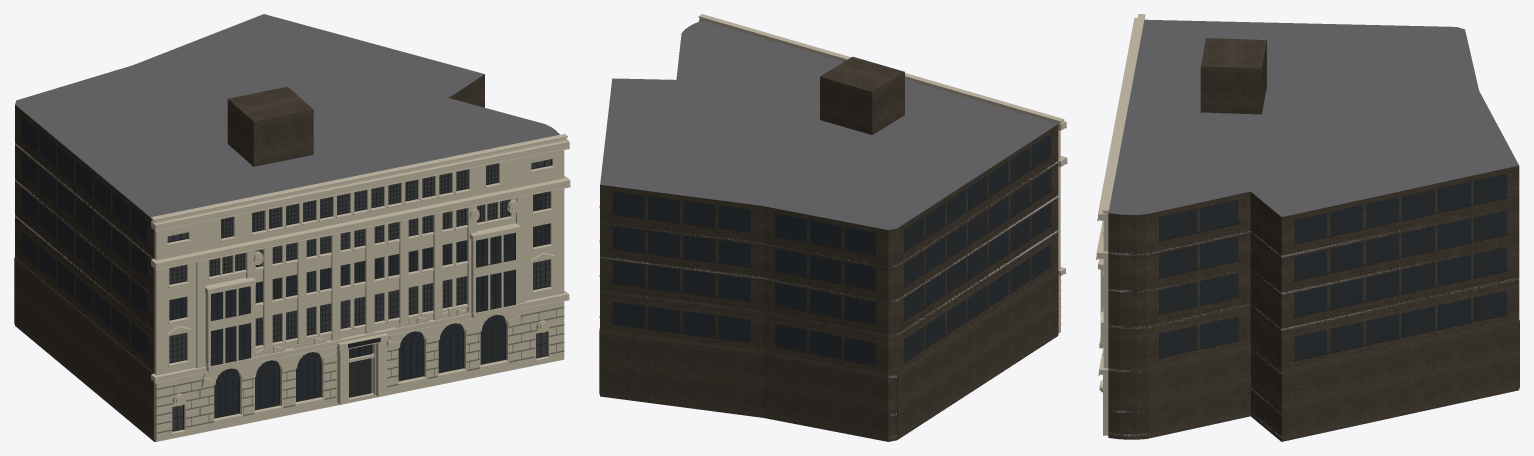
File: hero4c_mobile.glb
3 renders of one model, left to right at view 1: azimuth 30°, elevation 25°; view 2: azimuth 150°, elevation 25°; view 3: azimuth 270°, elevation 25°, orthographic. The views are drawn at different scales.
Visible parts, largest first — view 1: HERO_body, HERO_RB_cartouche, HERO_cornice, Window_02_glass, Window_03_glass, Window_01_glass, Window_05_glass, Window_04_glass, HERO_cornice_drip_002, Window_04_sill, HERO_voussoir_046, Window_02_frame (+6 smaller); view 2: HERO_body, Window_02_glass, Window_04_glass, Window_03_glass, Window_05_glass, HERO_RB_cartouche, HERO_cornice_drip_002, Window_02_frame, Window_03_frame, Window_04_frame, Window_05_frame, Floor_04; view 3: HERO_body, Window_03_glass, Window_02_glass, Window_04_glass, Window_05_glass, HERO_RB_cartouche, HERO_cornice_drip_002, Window_03_frame, Window_05_frame, Window_02_frame, Window_04_frame, HERO_cornice (+2 smaller).
Part boxes in pixels (bbox=[...]): HERO_body: bbox=[14, 14, 559, 441]; HERO_RB_cartouche: bbox=[151, 134, 567, 375]; HERO_cornice: bbox=[151, 291, 569, 441]; Window_02_glass: bbox=[21, 230, 549, 364]; Window_03_glass: bbox=[21, 187, 549, 319]; Window_01_glass: bbox=[172, 314, 546, 430]; Window_05_glass: bbox=[21, 115, 551, 243]; Window_04_glass: bbox=[21, 151, 549, 283]; HERO_cornice_drip_002: bbox=[151, 138, 569, 246]; Window_04_sill: bbox=[151, 176, 570, 287]; HERO_voussoir_046: bbox=[201, 306, 521, 404]; Window_02_frame: bbox=[20, 252, 550, 365]; HERO_body: bbox=[599, 20, 1058, 441]; Window_02_glass: bbox=[612, 244, 1051, 364]; Window_04_glass: bbox=[612, 169, 1051, 289]; Window_03_glass: bbox=[612, 203, 1051, 323]; Window_05_glass: bbox=[612, 134, 1051, 254]; HERO_RB_cartouche: bbox=[698, 14, 1064, 270]; HERO_cornice_drip_002: bbox=[699, 18, 1066, 130]; Window_02_frame: bbox=[599, 265, 1052, 366]; Window_03_frame: bbox=[599, 224, 1052, 325]; Window_04_frame: bbox=[599, 190, 1052, 290]; Window_05_frame: bbox=[599, 155, 1052, 256]; Floor_04: bbox=[600, 195, 1058, 302]; HERO_body: bbox=[1108, 19, 1519, 441]; Window_03_glass: bbox=[1159, 247, 1506, 316]; Window_02_glass: bbox=[1159, 290, 1506, 359]; Window_04_glass: bbox=[1159, 210, 1506, 279]; Window_05_glass: bbox=[1159, 173, 1506, 242]; HERO_RB_cartouche: bbox=[1098, 14, 1145, 368]; HERO_cornice_drip_002: bbox=[1097, 18, 1137, 233]; Window_03_frame: bbox=[1158, 270, 1507, 317]; Window_05_frame: bbox=[1158, 196, 1507, 244]; Window_02_frame: bbox=[1158, 313, 1507, 361]; Window_04_frame: bbox=[1158, 233, 1507, 281]; HERO_cornice: bbox=[1098, 346, 1108, 435].
Size of the model in its own units: 38.64 by 24.43 by 34.67.
11 materials, 1 textured.
